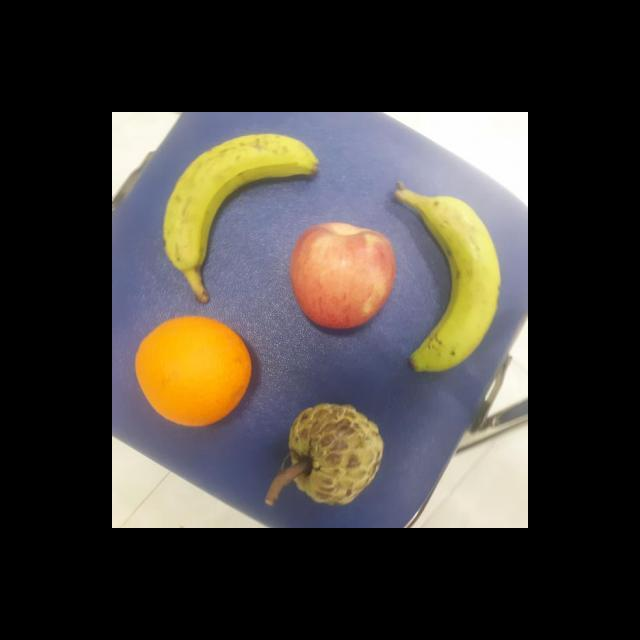Sakya fruit: (288, 402, 384, 508)
apple: (287, 219, 400, 332)
banana: (160, 132, 318, 306), (396, 182, 504, 372)
orange: (134, 314, 253, 428)
